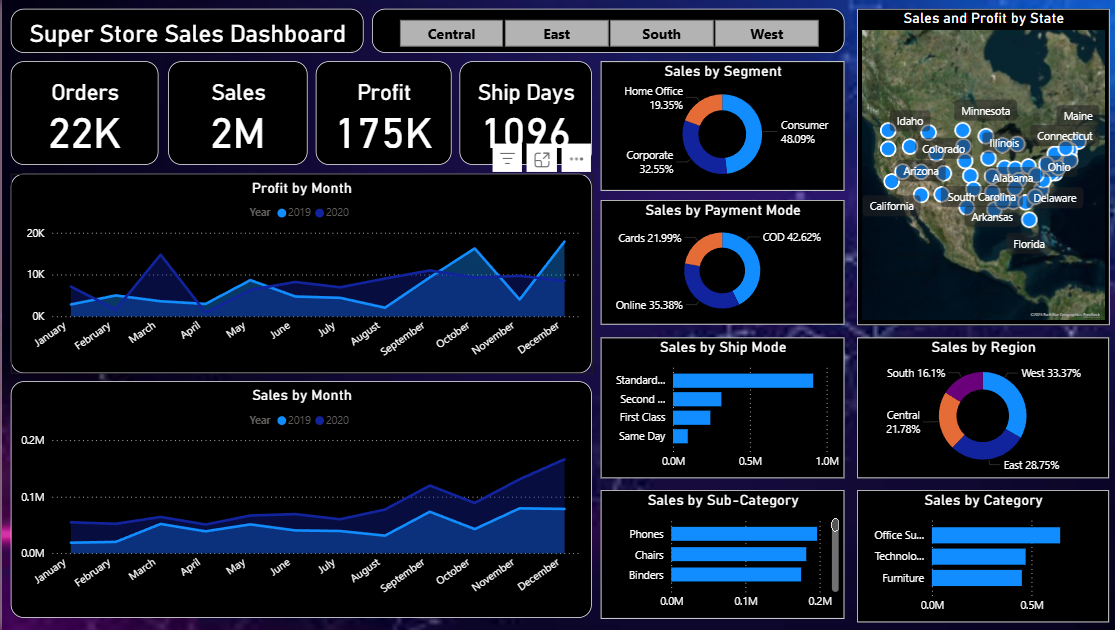

Layout of this report page (visuals, bound fields, positions):
{"tool":"powerbi","page":{"name":"Page 1","canvas":[1280,720],"ordinal":0},"visuals":[{"type":"textbox","title":"Super Store Sales Dashboard ","box":[10,10,402.9,50],"z":0},{"type":"slicer","title":"Region","fields":{"Values":["Sheet1.Region"]},"box":[422.9,10,540,50],"z":1000},{"type":"card","title":"Orders","fields":{"Values":["Sum(Sheet1.Quantity)"]},"box":[9.6,70,168.8,118],"z":2000},{"type":"card","title":"Sales","fields":{"Values":["Sum(Sheet1.Sales)"]},"box":[189.4,70,159.2,118],"z":3000},{"type":"card","title":"Profit","fields":{"Values":["Sum(Sheet1.Profit)"]},"box":[358.1,70,155.1,118],"z":4000},{"type":"card","title":"Ship Days","fields":{"Values":["CountNonNull(Sheet1.Ship Date.Variation.Date Hierarchy.Day)"]},"box":[522.8,70,150.9,118],"z":5000},{"type":"areaChart","title":"Profit by Month ","fields":{"Y":["Sum(Sheet1.Profit)"],"Series":["Sheet1.Order Date.Variation.Date Hierarchy.Year"],"Category":["Sheet1.Order Date.Variation.Date Hierarchy.Month"]},"box":[9.6,199,664.2,227.8],"z":6000},{"type":"areaChart","title":"Sales by Month ","fields":{"Series":["Sheet1.Order Date.Variation.Date Hierarchy.Year"],"Category":["Sheet1.Order Date.Variation.Date Hierarchy.Month"],"Y":["Sum(Sheet1.Sales)"]},"box":[9.6,436.4,664.2,270.3],"z":7000},{"type":"donutChart","title":" Sales by Segment","fields":{"Y":["Sum(Sheet1.Sales)"],"Category":["Sheet1.Segment"]},"box":[684.7,70,278.6,148.2],"z":8000},{"type":"donutChart","title":" Sales by Payment Mode","fields":{"Y":["Sum(Sheet1.Sales)"],"Category":["Sheet1.Payment Mode"]},"box":[684.7,229.2,278.6,142.7],"z":9000},{"type":"barChart","title":" Sales by Ship Mode","fields":{"Y":["Sum(Sheet1.Sales)"],"Category":["Sheet1.Ship Mode"]},"box":[684.7,385.6,278.6,160.5],"z":10000},{"type":"barChart","title":"Sales by Sub-Category","fields":{"Category":["Sheet1.Sub-Category"],"Y":["Sum(Sheet1.Sales)"]},"box":[684.7,559.9,278.6,146.8],"z":11000},{"type":"barChart","title":"Sales by Category","fields":{"Y":["Sum(Sheet1.Sales)"],"Category":["Sheet1.Category"]},"box":[977,559.9,288.2,150.9],"z":12000},{"type":"donutChart","title":"Sales by Region","fields":{"Category":["Sheet1.Region"],"Y":["Sum(Sheet1.Sales)"]},"box":[977,385.6,288.2,160.5],"z":13000},{"type":"azureMap","title":"Sales and Profit by State","fields":{"Category":["Sheet1.State"]},"box":[977.1,10,288.6,361.4],"z":14000}]}

Visuals, with their boxes in screenshot pixels (x1, y1, x2, y2), scaled from the page's 1280x720 canvas onto the 1115x630 screenshot:
"Super Store Sales Dashboard " textbox: l=9, t=9, r=360, b=52
"Region" slicer: l=368, t=9, r=839, b=52
"Orders" card: l=8, t=61, r=155, b=164
"Sales" card: l=165, t=61, r=304, b=164
"Profit" card: l=312, t=61, r=447, b=164
"Ship Days" card: l=455, t=61, r=587, b=164
"Profit by Month " areaChart: l=8, t=174, r=587, b=373
"Sales by Month " areaChart: l=8, t=382, r=587, b=618
" Sales by Segment" donutChart: l=596, t=61, r=839, b=191
" Sales by Payment Mode" donutChart: l=596, t=201, r=839, b=325
" Sales by Ship Mode" barChart: l=596, t=337, r=839, b=478
"Sales by Sub-Category" barChart: l=596, t=490, r=839, b=618
"Sales by Category" barChart: l=851, t=490, r=1102, b=622
"Sales by Region" donutChart: l=851, t=337, r=1102, b=478
"Sales and Profit by State" azureMap: l=851, t=9, r=1103, b=325
